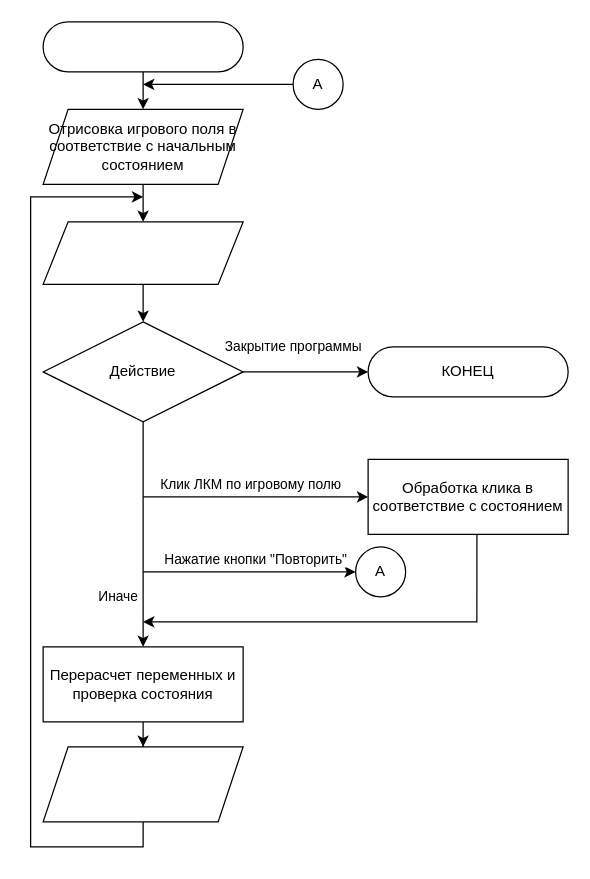
The diagram is 590 pixels wide and 879 high, and some of its shapes have lost their labels. Each missing label, with the box of its shape:
НАЧАЛО: (42, 21, 243, 72)
Ожидание действия пользователя: (42, 221, 243, 284)
Перерисовка игрового поля с учетом состояния: (42, 746, 243, 822)
